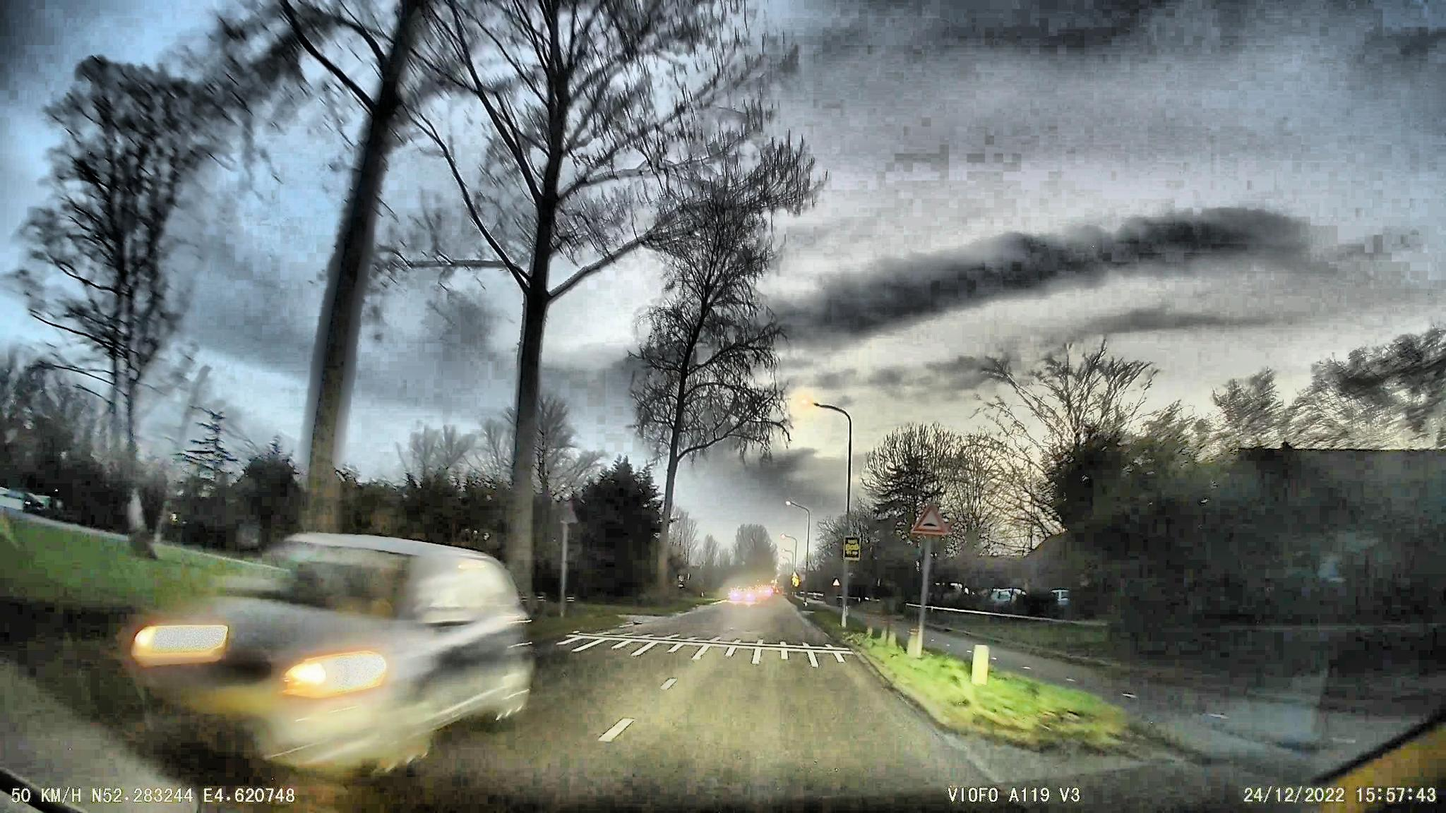Roads: (426, 598, 1179, 803)
